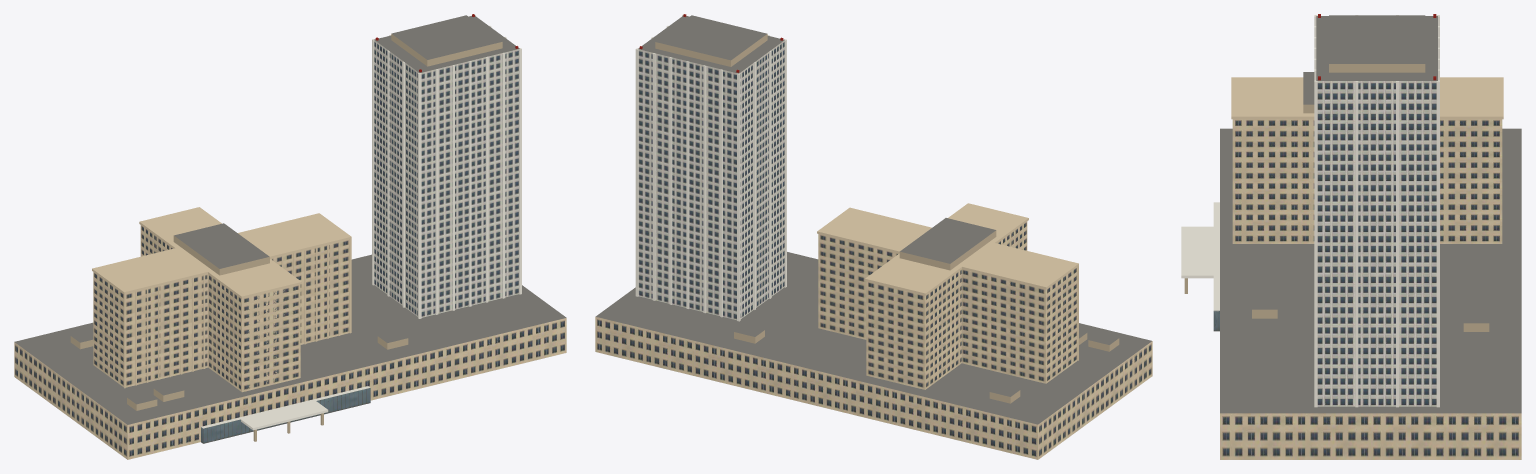
File: imperial_hotel.glb
3 views of the same model, side by side, from view 1: azimuth 30°, elevation 25°; view 2: azimuth 150°, elevation 25°; view 3: azimuth 270°, elevation 25° (orthographic). The views are drawn at different scales.
Visible parts, largest first — view 1: imperial_hotel; view 2: imperial_hotel; view 3: imperial_hotel.
Boxes of the visible parts, x1,y1,x2,y2 form: imperial_hotel: (14,14,566,459); imperial_hotel: (595,14,1152,459); imperial_hotel: (1181,14,1521,459).
Bounding box in the file's own units: 210 × 131 × 106.
Materials: 2 (2 with a texture image).
